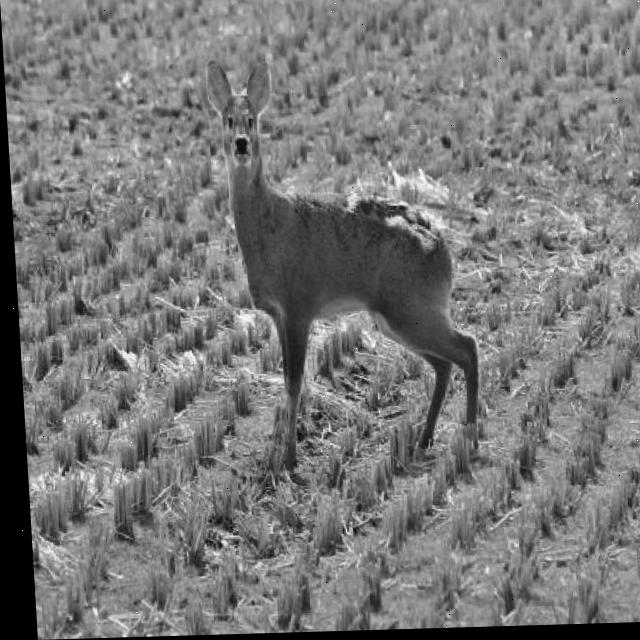Deer: (199, 47, 493, 475)
